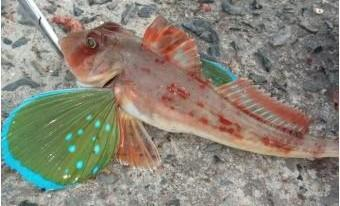fish: (1, 16, 339, 192)
